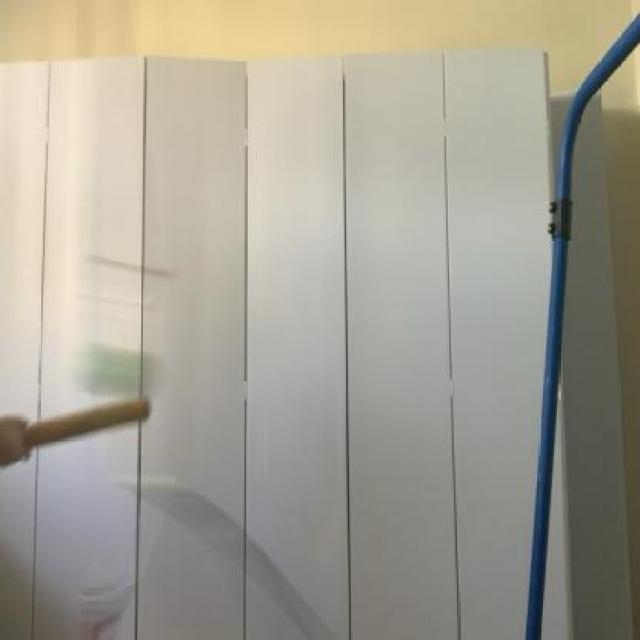baseball: (74, 325, 163, 403)
